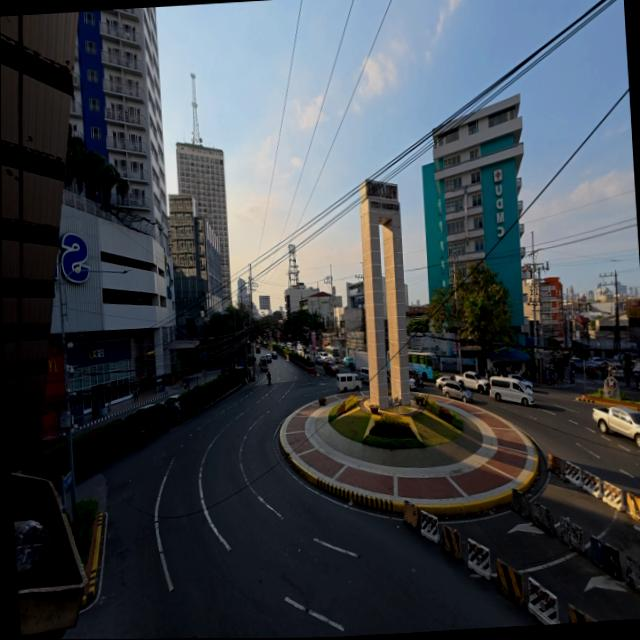bus: (408, 351, 438, 381), (325, 347, 340, 362)
car: (442, 381, 472, 403), (40, 434, 65, 451), (508, 373, 532, 390), (162, 395, 180, 411), (607, 363, 623, 379), (436, 376, 453, 390), (322, 362, 338, 376), (134, 403, 154, 414), (571, 358, 583, 371), (591, 358, 603, 367), (342, 356, 352, 366), (408, 377, 415, 391), (322, 356, 333, 364), (315, 355, 322, 365), (266, 354, 271, 362), (272, 352, 277, 360), (255, 346, 260, 353)
motorcycle: (415, 377, 423, 388), (569, 370, 574, 384), (267, 374, 270, 384)
trucks: (592, 406, 639, 448), (454, 372, 488, 393), (353, 351, 368, 369)
vans: (489, 376, 534, 405), (336, 373, 361, 392), (359, 367, 368, 382)
